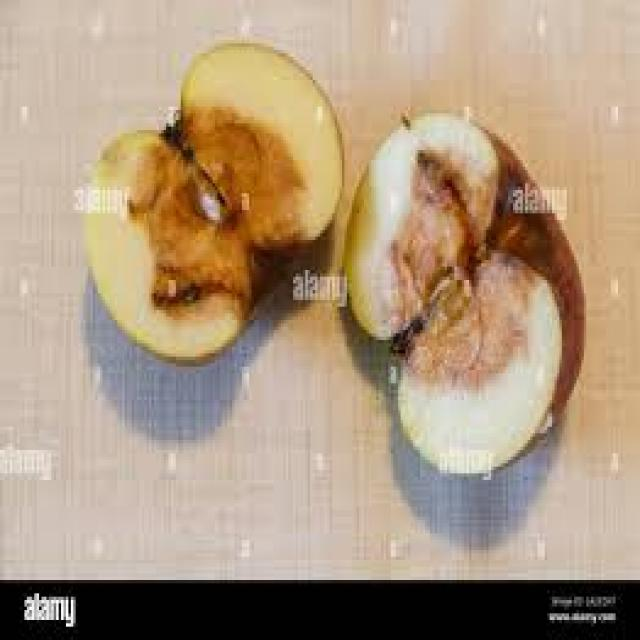Apple: (348, 99, 585, 476), (82, 44, 344, 363)
